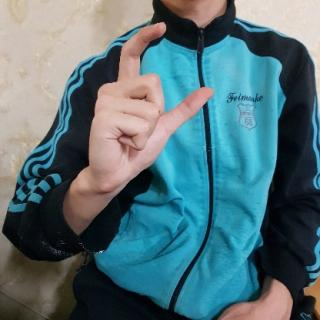NOON: (81, 18, 218, 197)
